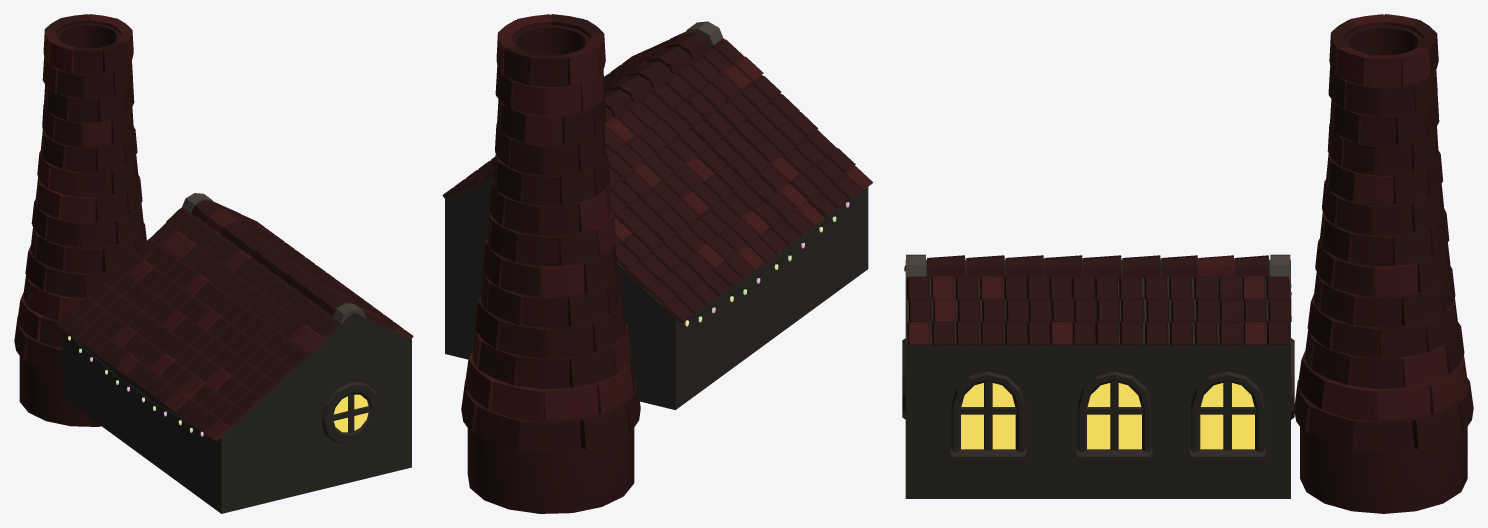
The model's file is Building_02.glb.
3 renders of one model, left to right at view 1: azimuth 30°, elevation 25°; view 2: azimuth 150°, elevation 25°; view 3: azimuth 270°, elevation 25°, orthographic. The views are drawn at different scales.
Visible parts, largest first — view 1: Building_02, Plane.003; view 2: Building_02, Plane.003; view 3: Building_02.
Part boxes in pixels (bbox=[...]): Building_02: bbox=[14, 14, 413, 513]; Plane.003: bbox=[68, 334, 203, 436]; Building_02: bbox=[442, 14, 873, 513]; Plane.003: bbox=[685, 201, 849, 326]; Building_02: bbox=[902, 14, 1473, 513].
Bounding box in the file's own units: 2.14 × 3.65 × 4.28.
4 materials, 2 textured.
